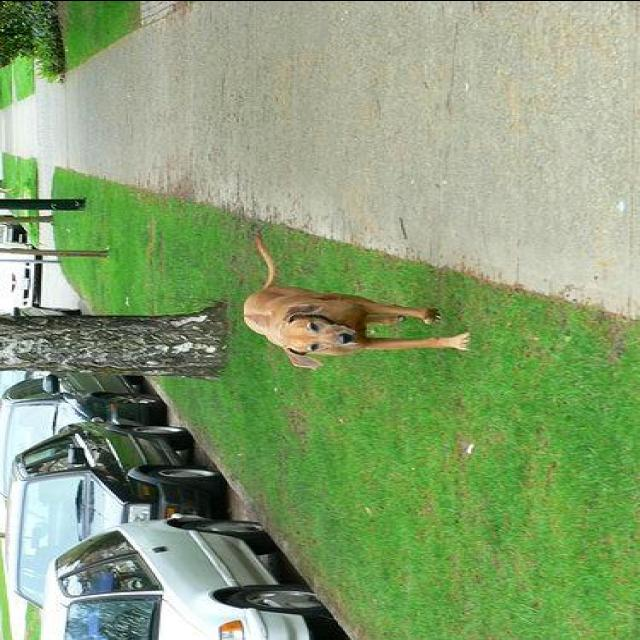rhodesian_ridgeback: (236, 228, 474, 374)
